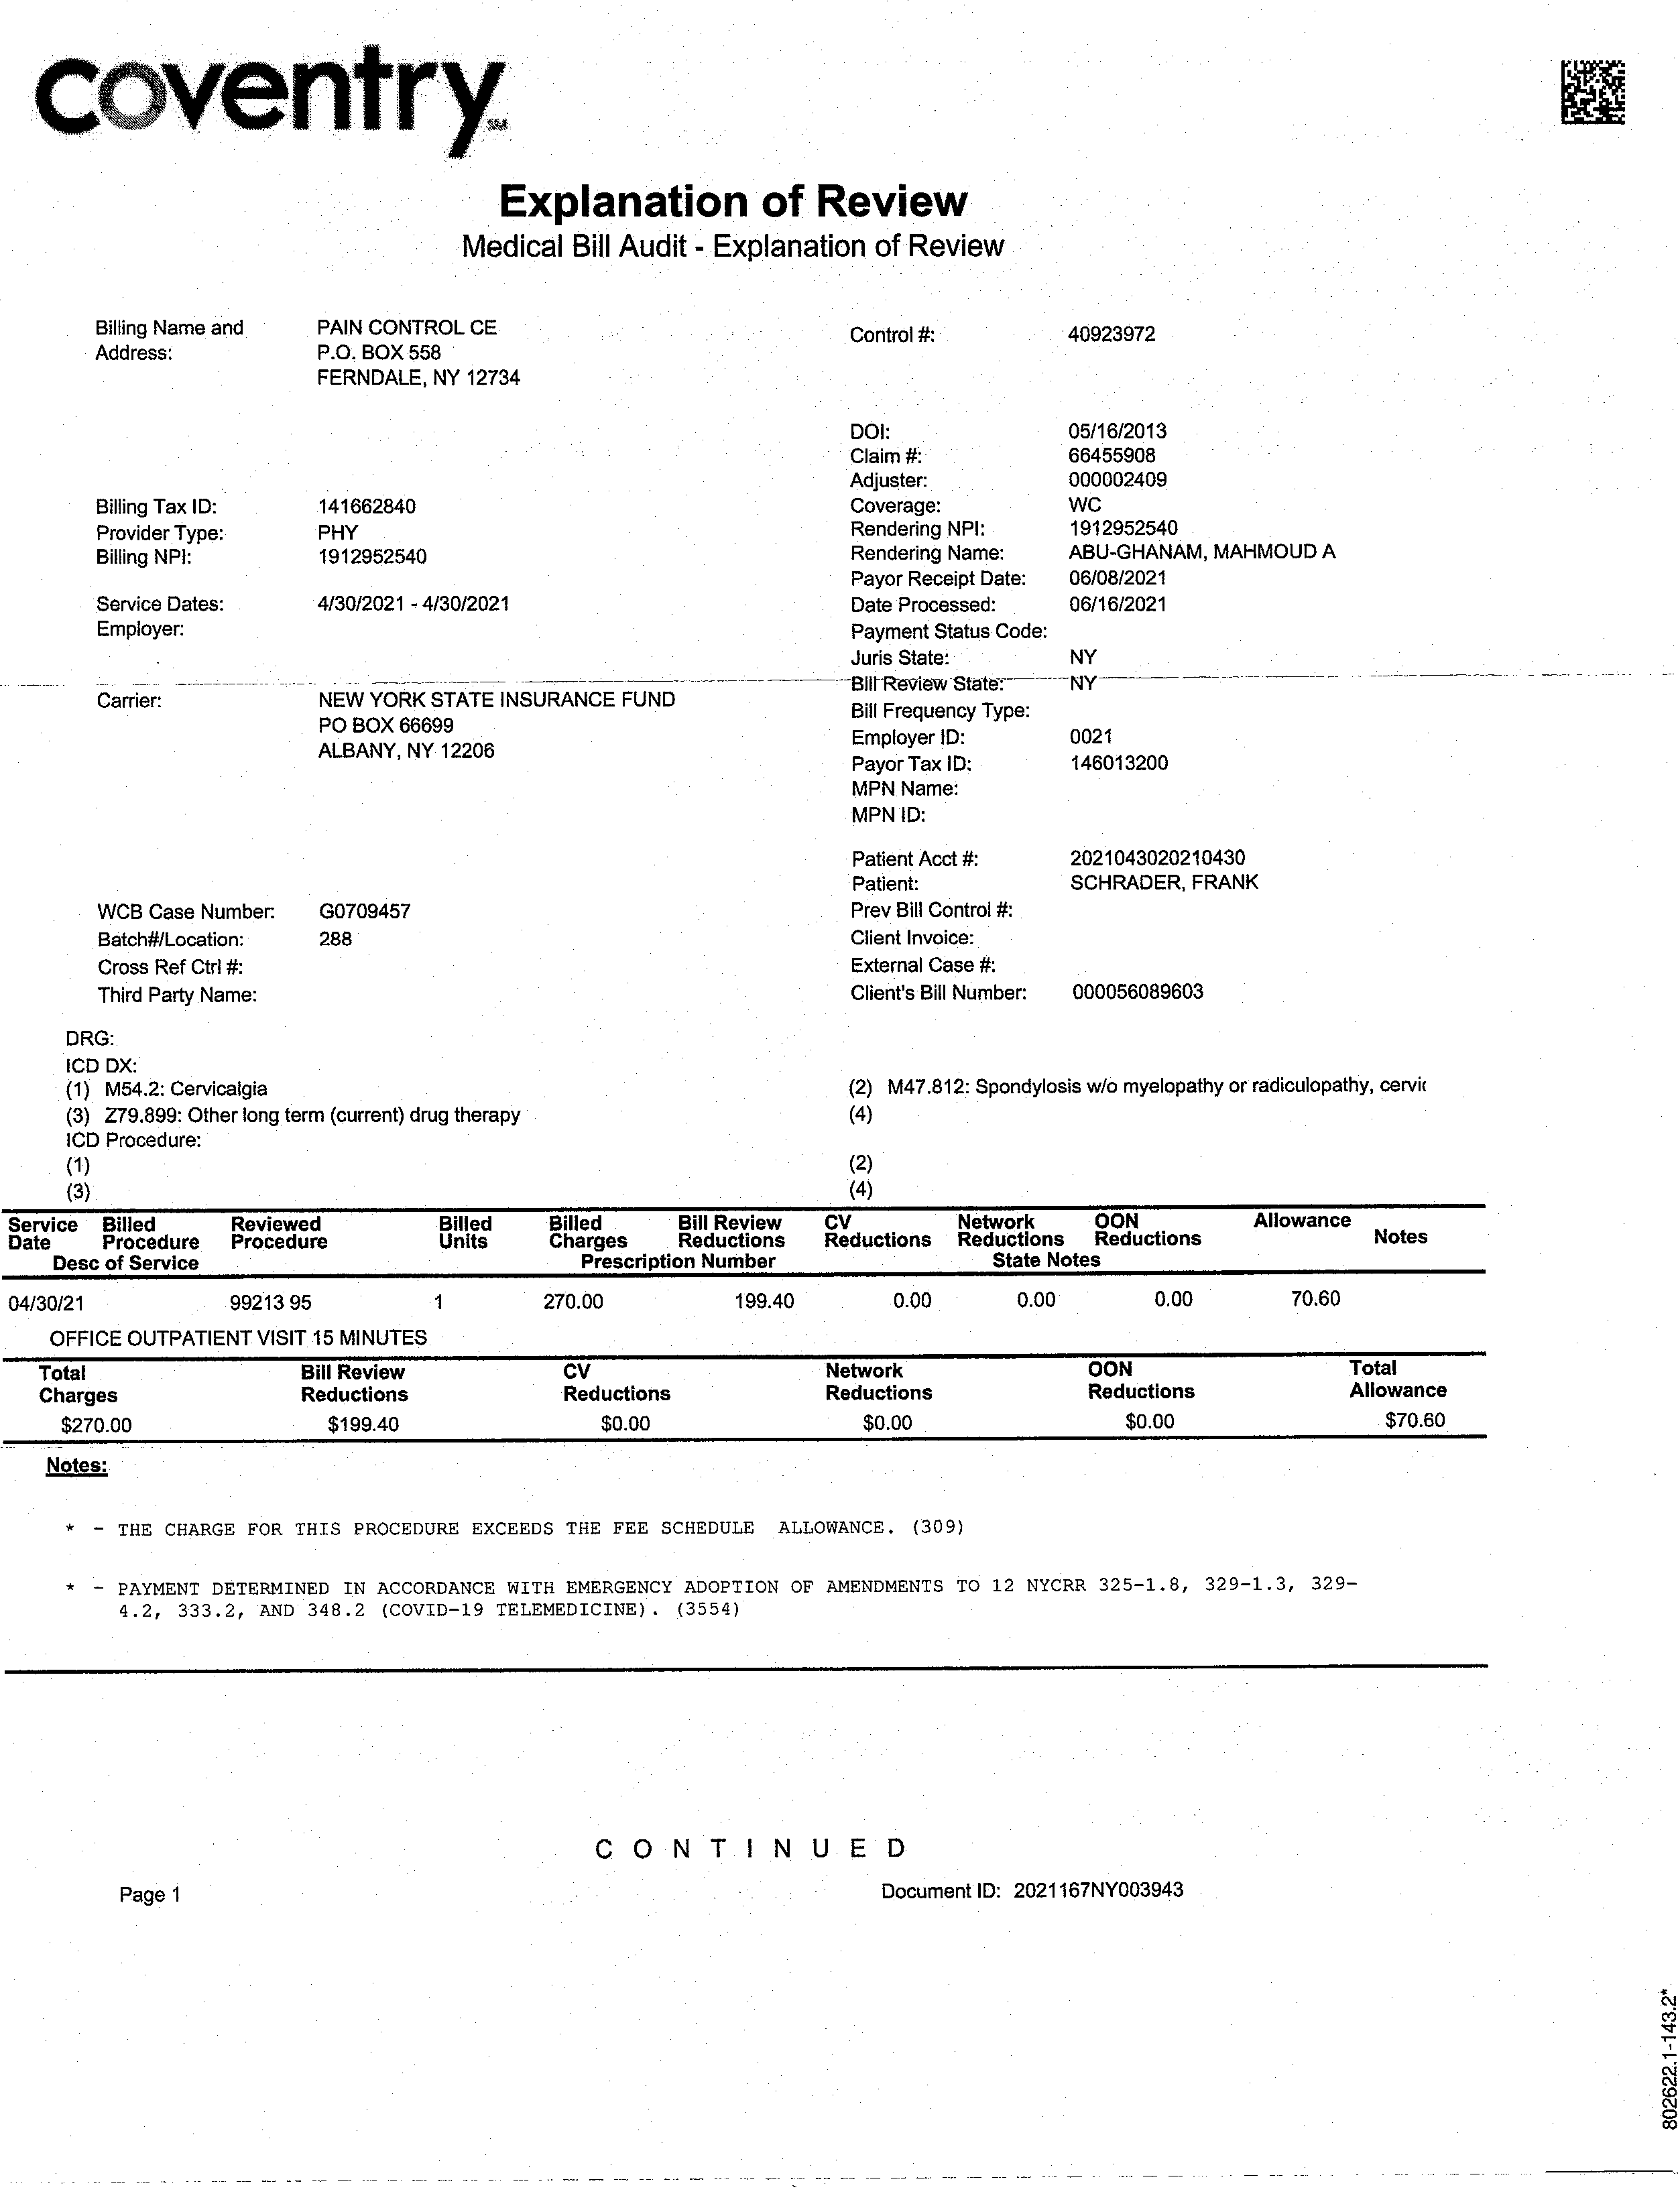data: (828, 400, 1341, 1017), (79, 659, 700, 798), (74, 465, 546, 647), (81, 865, 457, 1021), (85, 289, 522, 412), (834, 310, 1170, 358)
table: (9, 1190, 1504, 1459)
